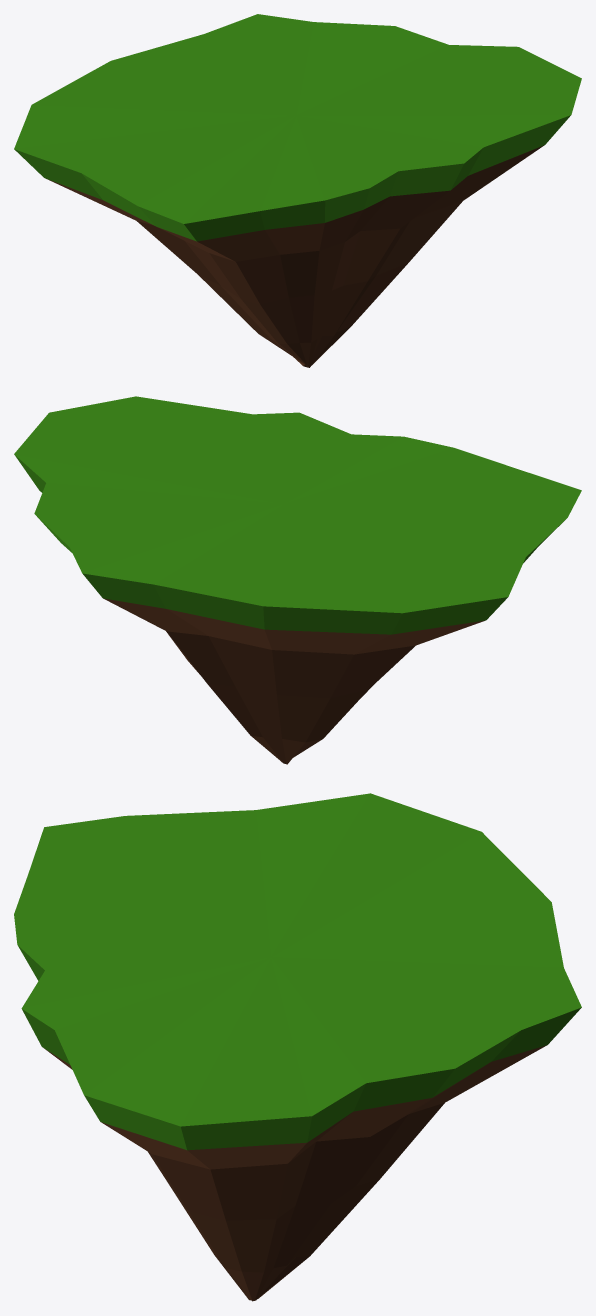
Rendered from island_v1.fbx.
3 views of the same model, one above another, from view 1: azimuth 30°, elevation 25°; view 2: azimuth 150°, elevation 25°; view 3: azimuth 270°, elevation 25° (orthographic). The views are drawn at different scales.
Visible parts, largest first — view 1: Vert.003; view 2: Vert.003; view 3: Vert.003.
Part boxes in pixels (bbox=[...]): Vert.003: bbox=[14, 14, 581, 367]; Vert.003: bbox=[14, 396, 581, 764]; Vert.003: bbox=[14, 793, 581, 1301].
Size of the model in its own units: 880 by 420 by 634.
